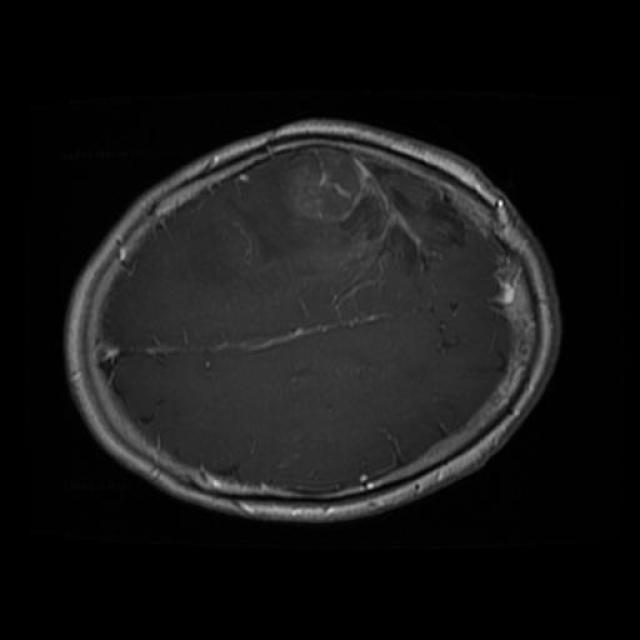Glioma: (300, 148, 486, 276)
